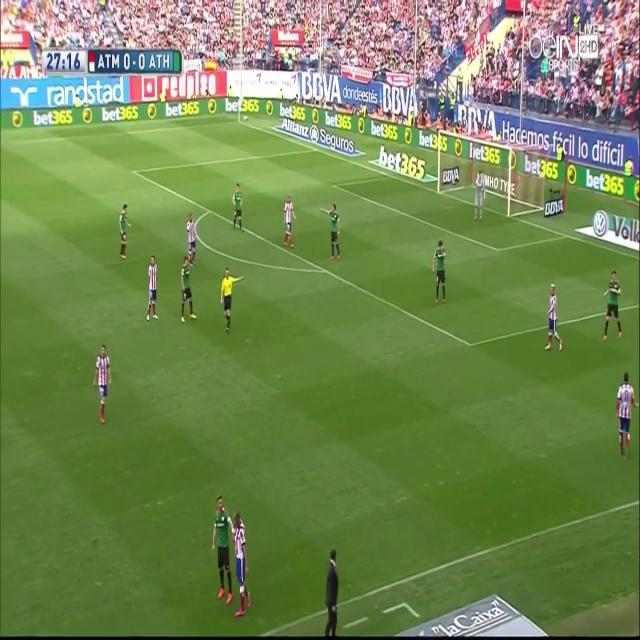Goalkeeper: (472, 170, 489, 226)
Player: (211, 493, 235, 609), (615, 371, 639, 458), (234, 506, 251, 620), (91, 342, 113, 425), (601, 268, 624, 339), (543, 281, 565, 354), (321, 206, 344, 264), (178, 256, 196, 325), (430, 240, 448, 305), (145, 253, 160, 326), (118, 201, 133, 266), (281, 194, 297, 250), (184, 208, 198, 268), (232, 180, 244, 234)
Referee: (220, 266, 246, 335)
